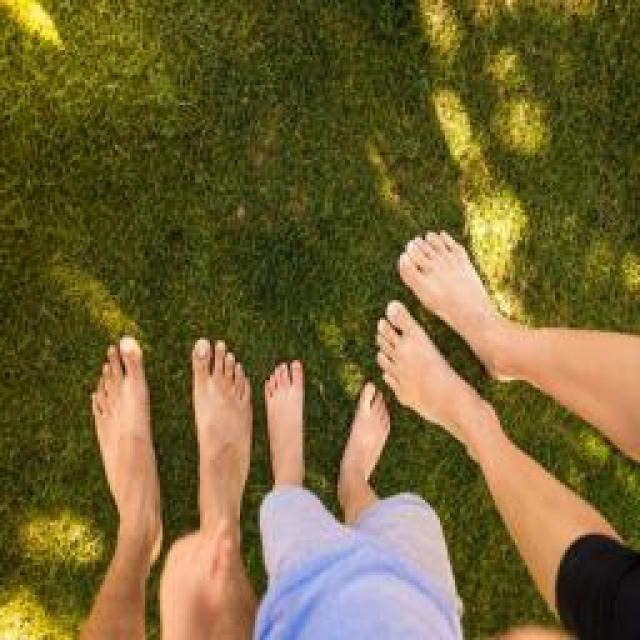No_Shoes: (380, 220, 508, 429), (78, 330, 164, 555), (192, 320, 256, 536), (256, 348, 323, 524), (344, 376, 386, 522)
